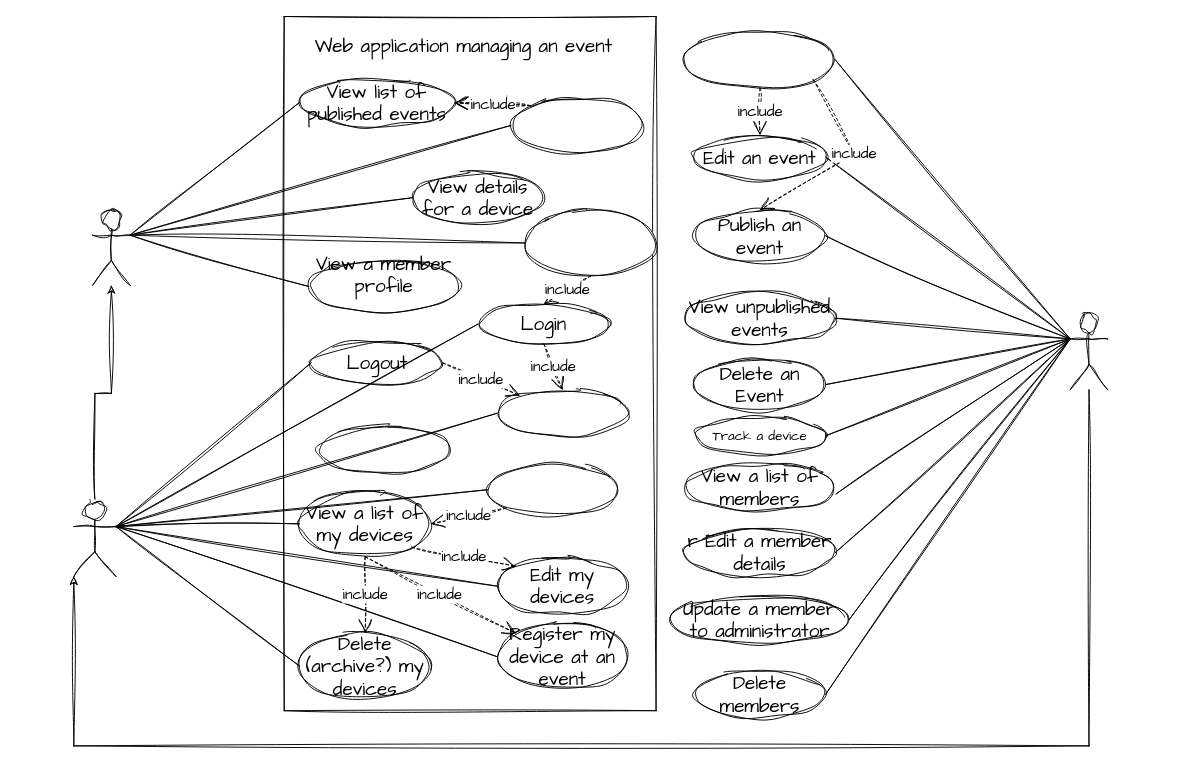
This 1198x770 diagram has some shape labels left out. The box of each missing label's shape, as (x1, y1, x2, y2) in pixels:
Create a new device: (317, 425, 450, 473)
Create a new event: (684, 31, 835, 88)
Edit my profile: (496, 389, 628, 437)
General user / visitor: (92, 209, 130, 285)
Member / device: (73, 501, 116, 577)
Register myself as a member: (524, 209, 657, 276)
System administrator: (1069, 313, 1108, 390)
View details for an event: (510, 96, 642, 154)
View details of my devices: (486, 463, 619, 516)
